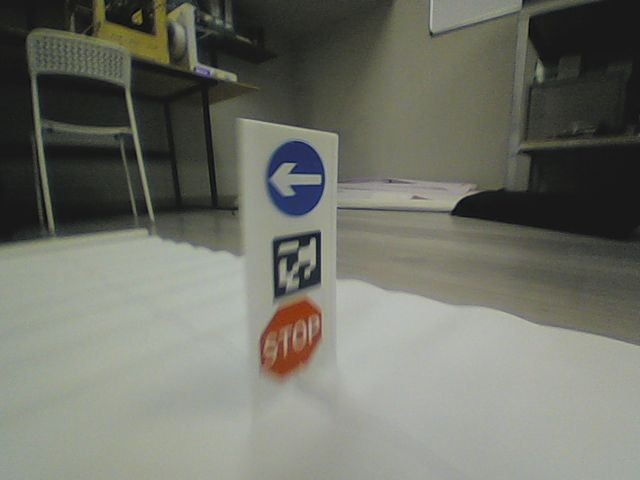Stop: (258, 299, 324, 380)
